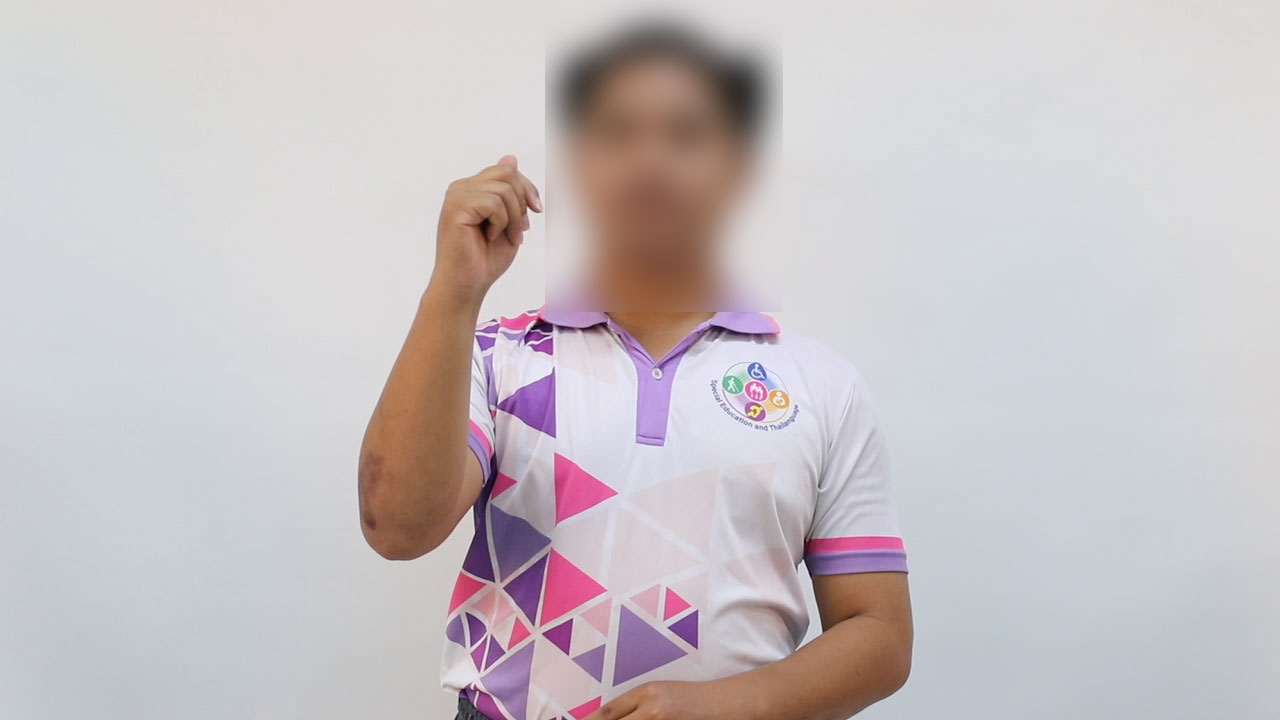tor: (407, 138, 569, 316)
